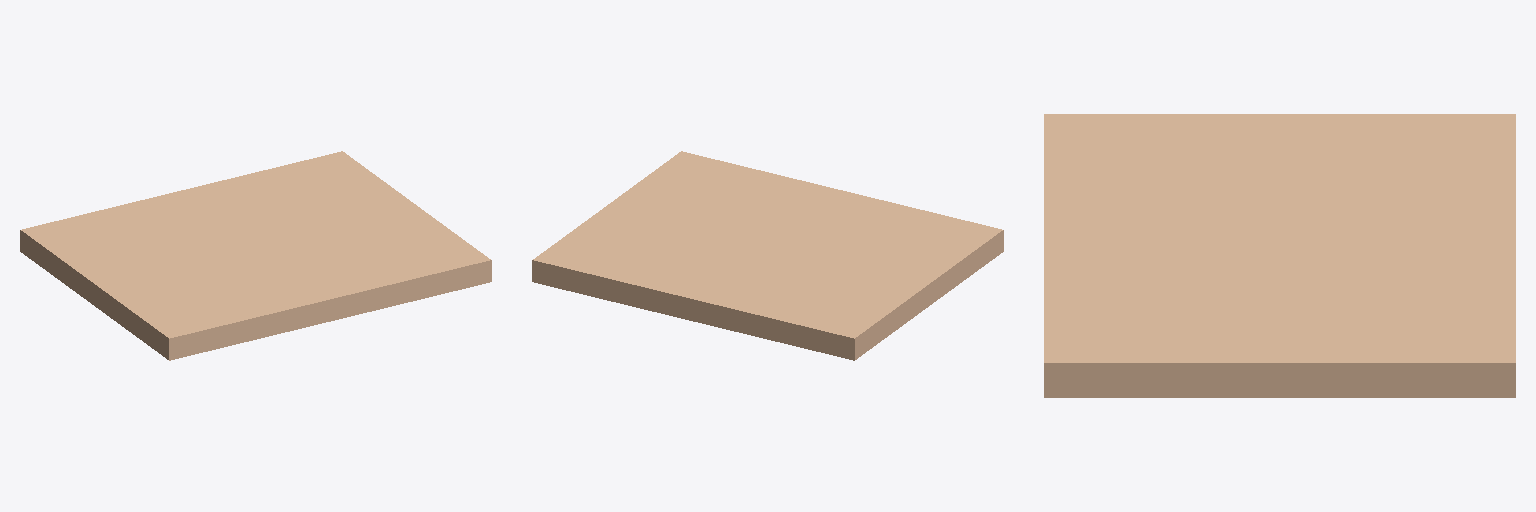
URDF robot description (flat_terrain):
<?xml version="1.0"?>
<robot name="flat_terrain">
  <link name="base_link">
  <contact>
      <lateral_friction value="1"/>
  </contact>
    <inertial>
      <origin rpy="0 0 0" xyz="0 0 0"/>
       <mass value=".0"/>
       <inertia ixx="0" ixy="0" ixz="0" iyy="0" iyz="0" izz="0"/>
    </inertial>
    <visual>
      <origin xyz="0 0 -0.05" rpy="0 0 0" />
      <geometry>
        <box size="1.524 1.2192 0.1" />
      </geometry>
      <material name="desert sand">
        <color rgba="0.9297 0.7930 0.6758 1" />
      </material>
    </visual>
    <collision>
      <origin xyz="0 0 -0.05" rpy="0 0 0" />
      <geometry>
        <box size="1.524 1.2192 0.1" />
      </geometry>
    </collision>
  </link>
</robot>

--- Facts derived from the render (not from the file) ---
Views: 3 orthographic renders of the robot side by side, from view 1: azimuth 30°, elevation 25°; view 2: azimuth 150°, elevation 25°; view 3: azimuth 270°, elevation 25°.
Robot: flat_terrain — 1 links, 0 joints (none); root link base_link; default pose: all joints at 0.
Visible links, largest first — view 1: base_link; view 2: base_link; view 3: base_link.
Link boxes in pixels (x1,y1,x2,y2): base_link: (20, 151, 491, 360); base_link: (532, 151, 1003, 360); base_link: (1044, 114, 1515, 397).
Size in the robot's own frame: 1.52 by 1.22 by 0.1 metres.
Geometry: primitives only (box / cylinder / sphere), no mesh files.